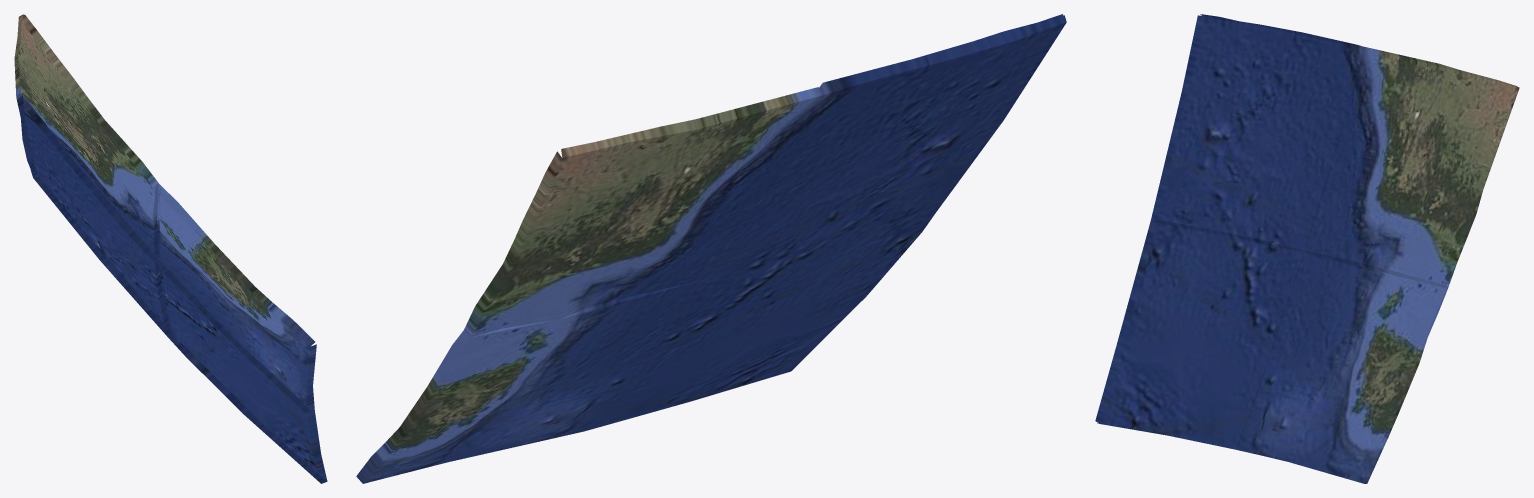
3 renders of one model, left to right at view 1: azimuth 30°, elevation 25°; view 2: azimuth 150°, elevation 25°; view 3: azimuth 270°, elevation 25°, orthographic. The views are drawn at different scales.
Size of the model in its own units: 1168040 by 984581 by 1239932.
1 material, 1 textured.
